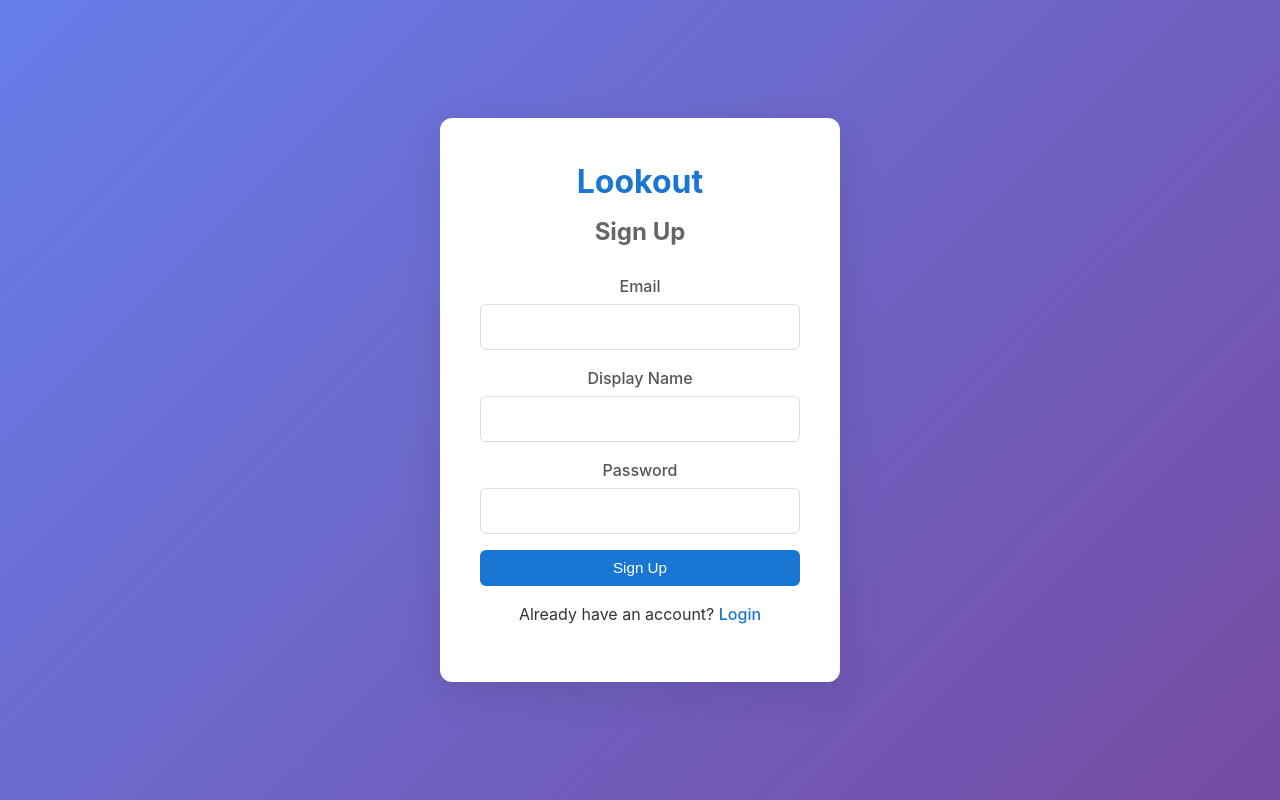
SignupPage › should clear error message on new submission
# First attempt - should fail
Type "existing@example.com" into the field labelled "Email" at (640, 327), box [480,304,800,350]
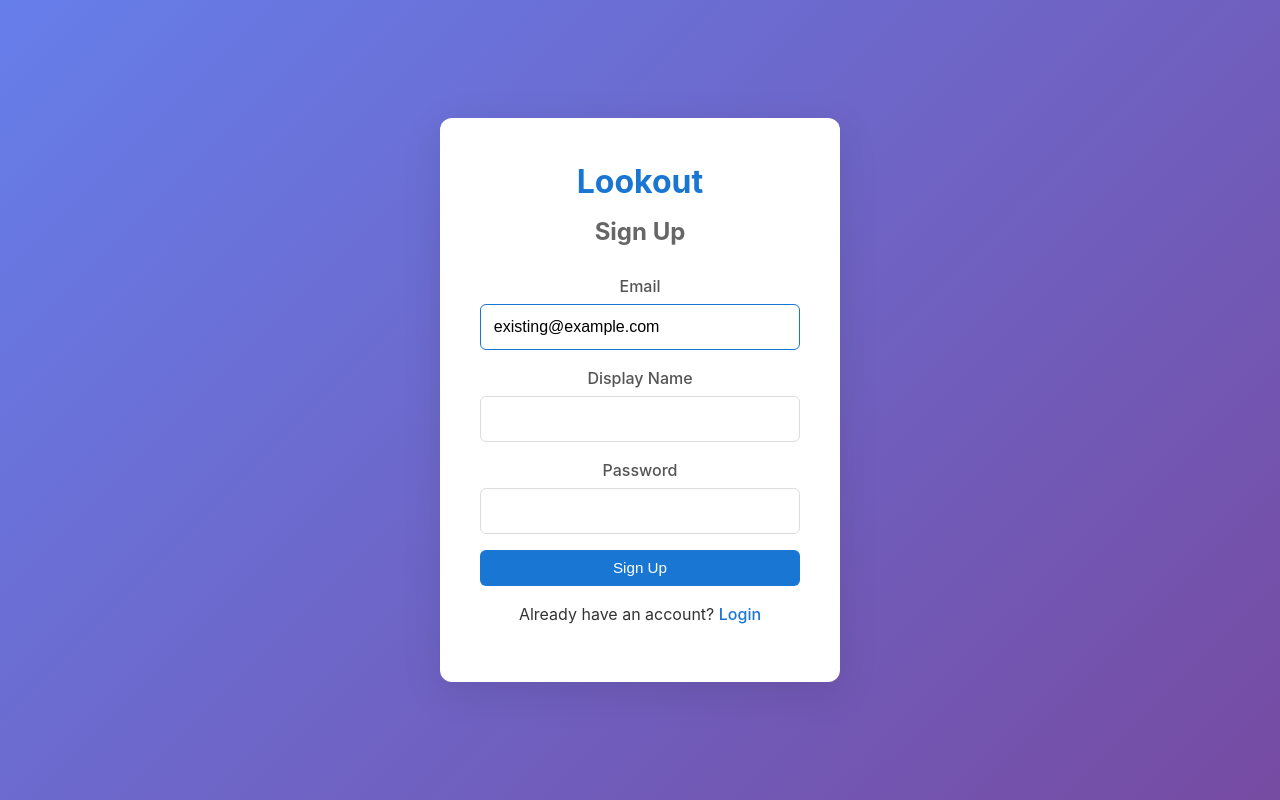
Type "password123" into the password field labelled "Password" at (640, 511), box [480,488,800,534]
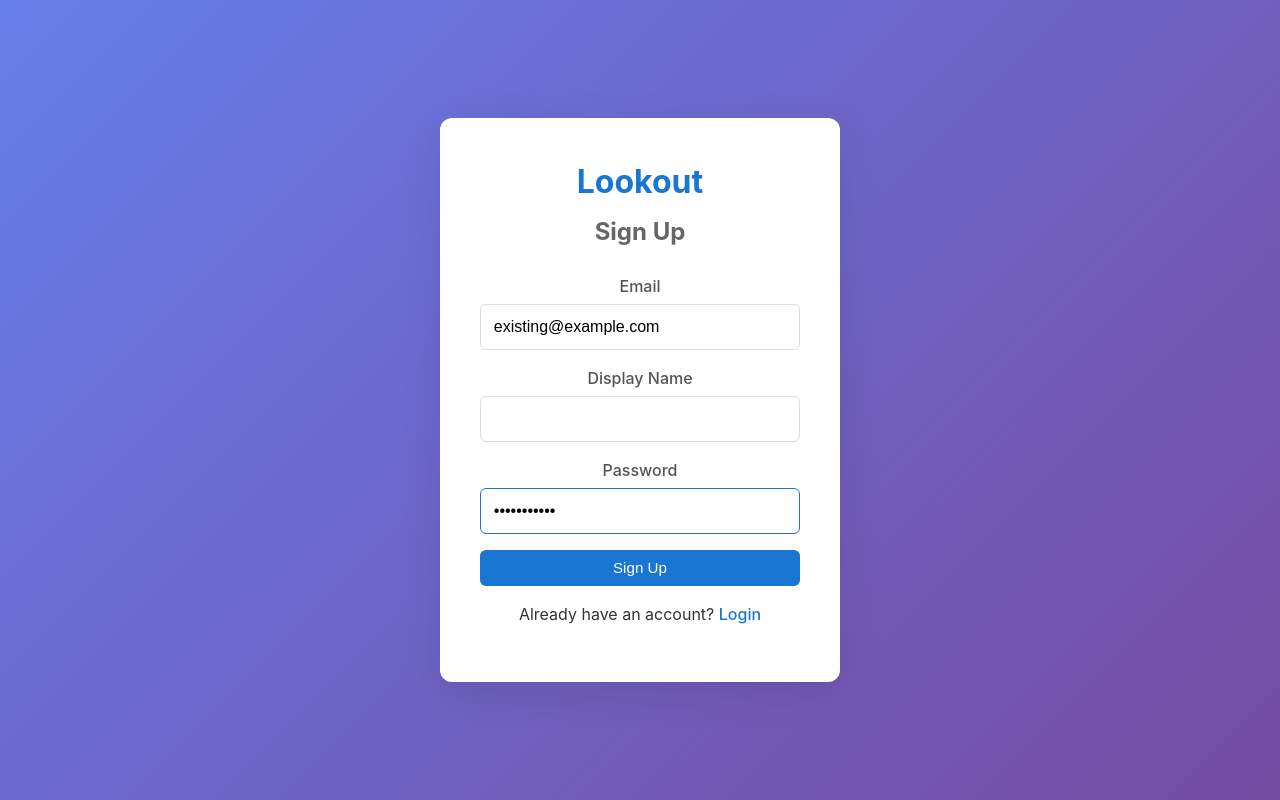
Click the button "Sign Up" at (640, 568), box [480,550,800,586]
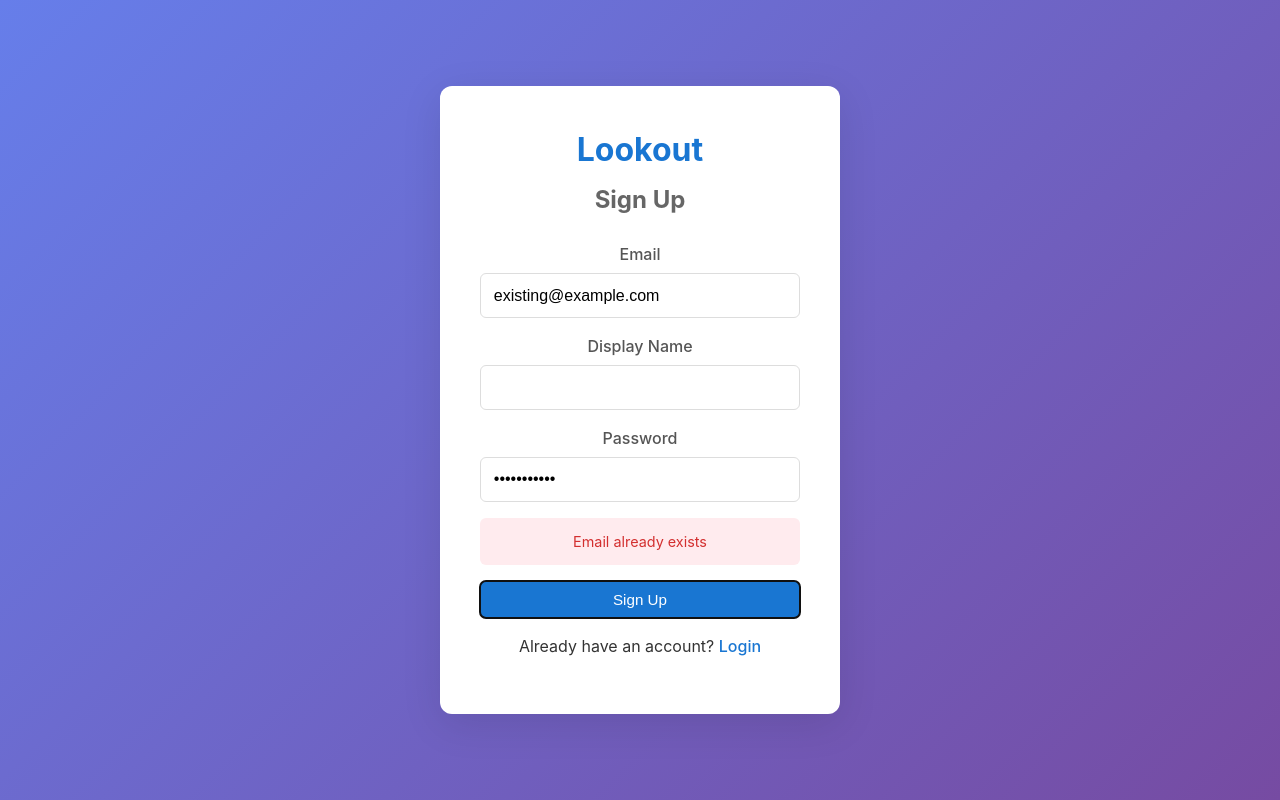
Check: the text "Email already exists" is shown, box [480,518,800,566]
# Second attempt - should succeed and clear error
Replace the text in the field labelled "Email" with "newuser@example.com" at (640, 296), box [480,273,800,318]
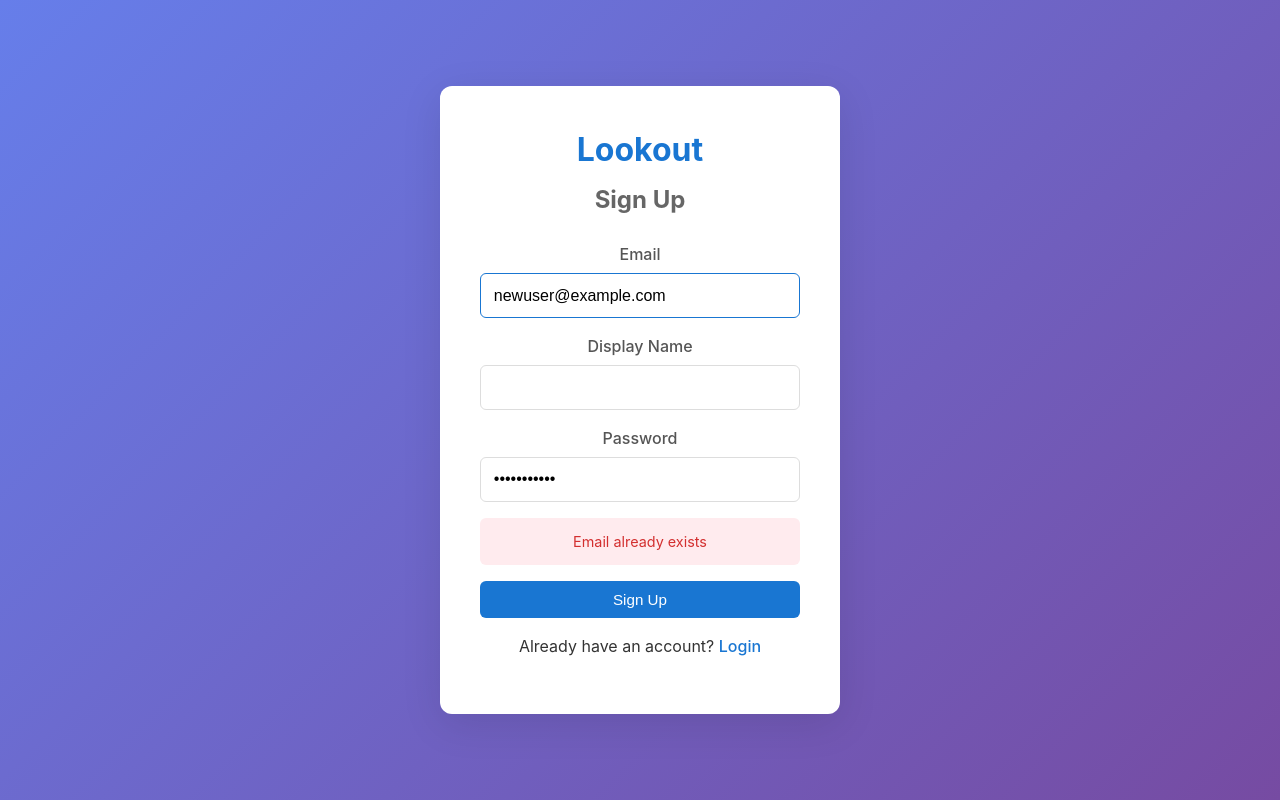
Click the button "Sign Up" at (640, 600), box [480,582,800,618]
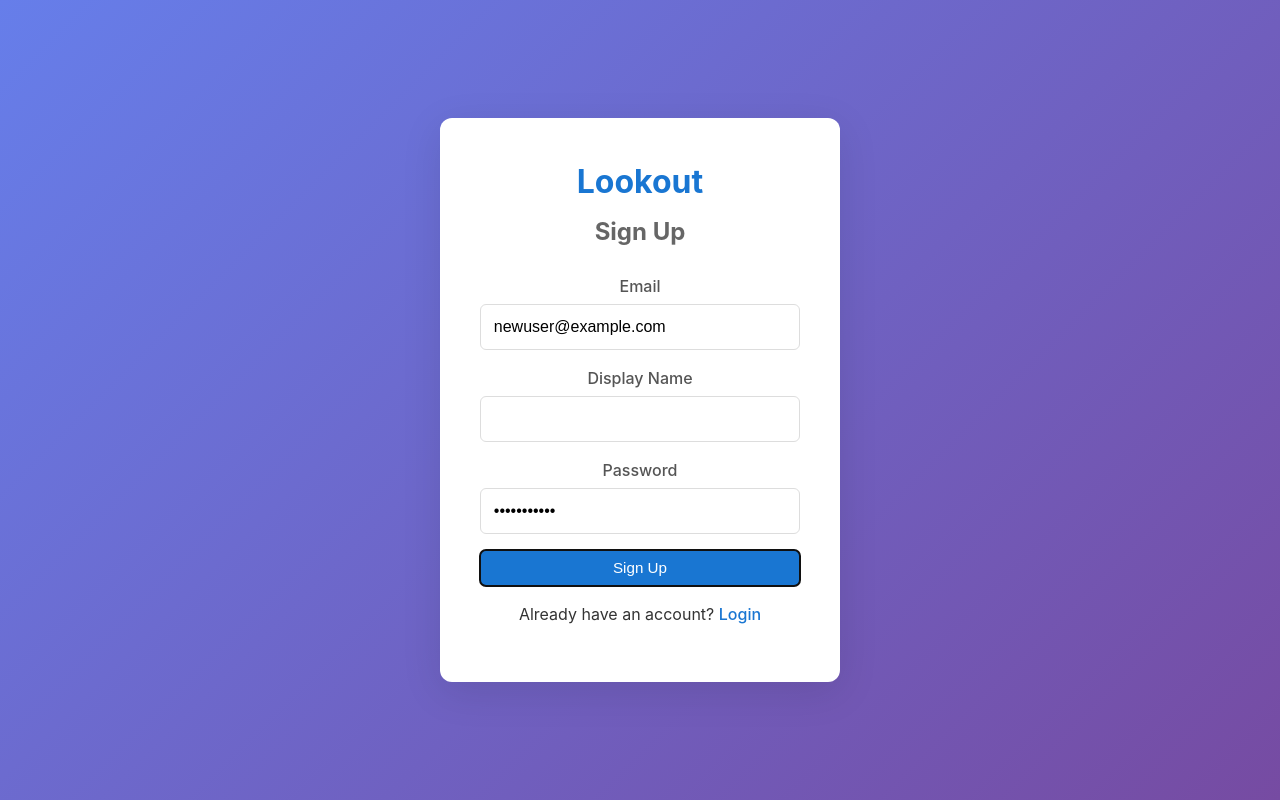
Check: the text "Email already exists" is gone
